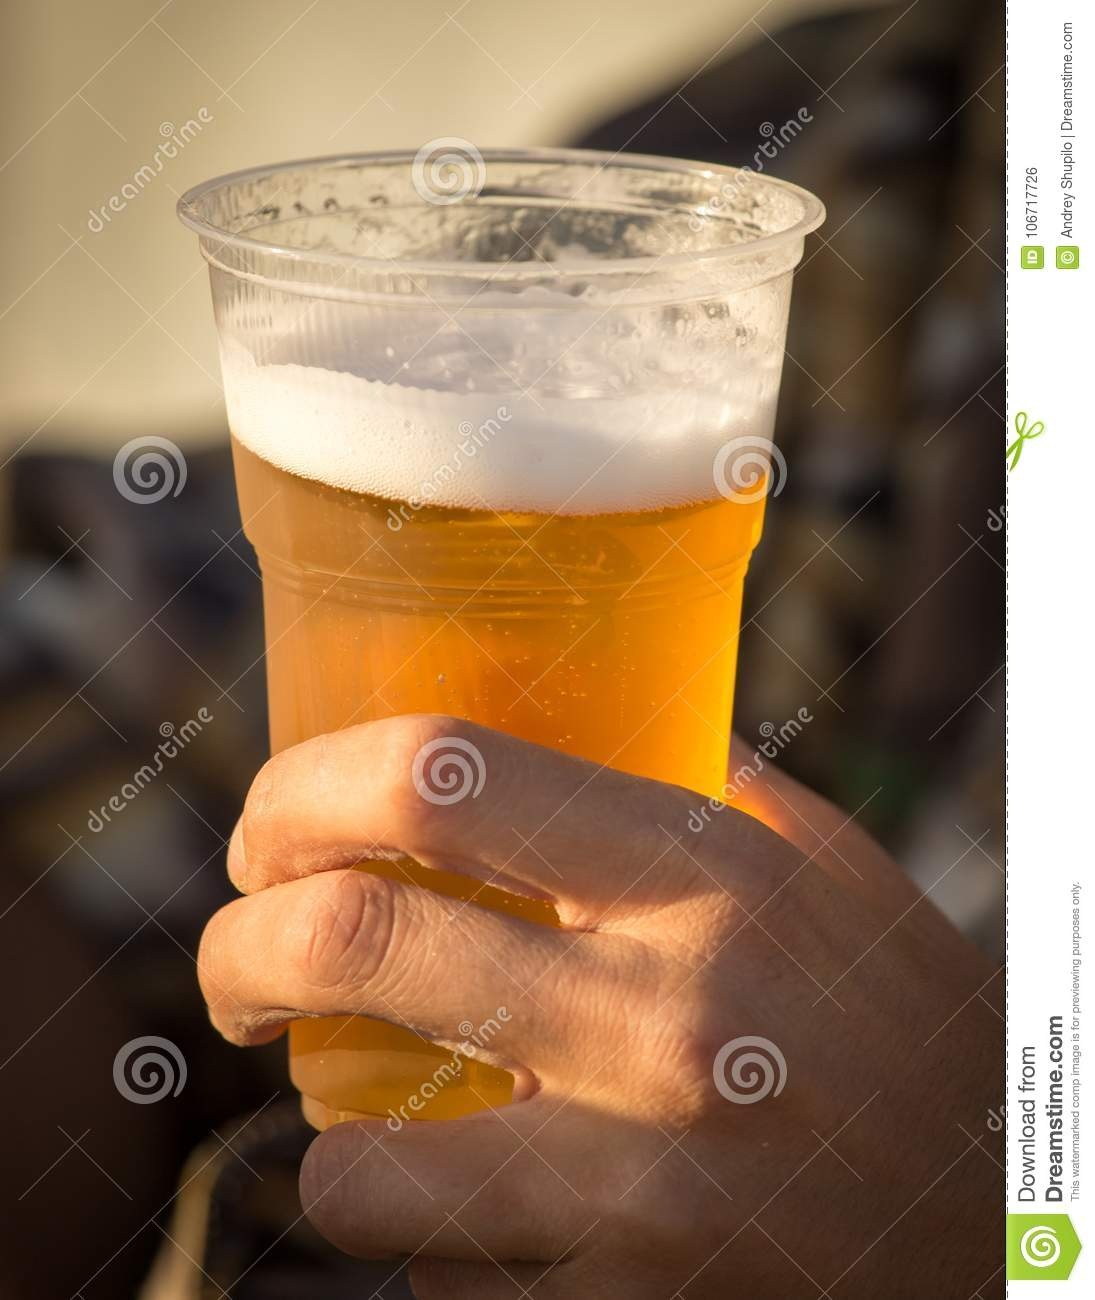glassBeer: (176, 124, 838, 1154)
